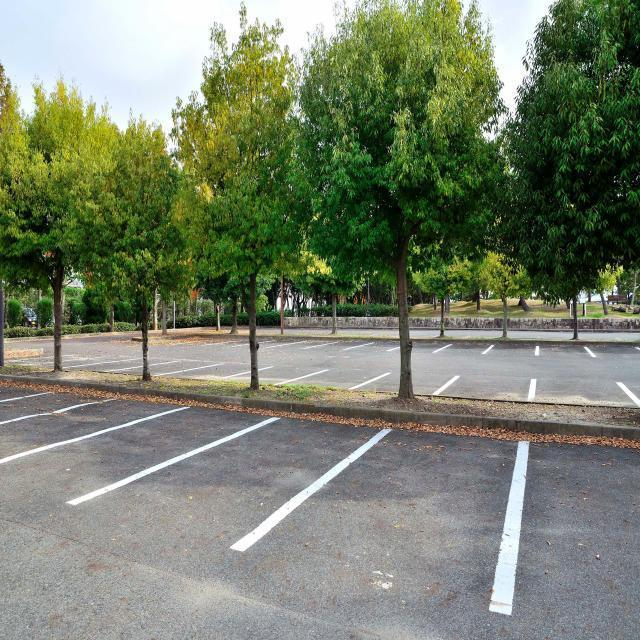free: (230, 424, 527, 624), (63, 410, 390, 555), (0, 404, 278, 511), (487, 442, 640, 622), (0, 393, 200, 466), (0, 388, 126, 430), (527, 377, 640, 409), (346, 370, 461, 397), (430, 375, 536, 404), (273, 369, 393, 393), (101, 359, 226, 379), (151, 362, 276, 380), (217, 365, 328, 385)
